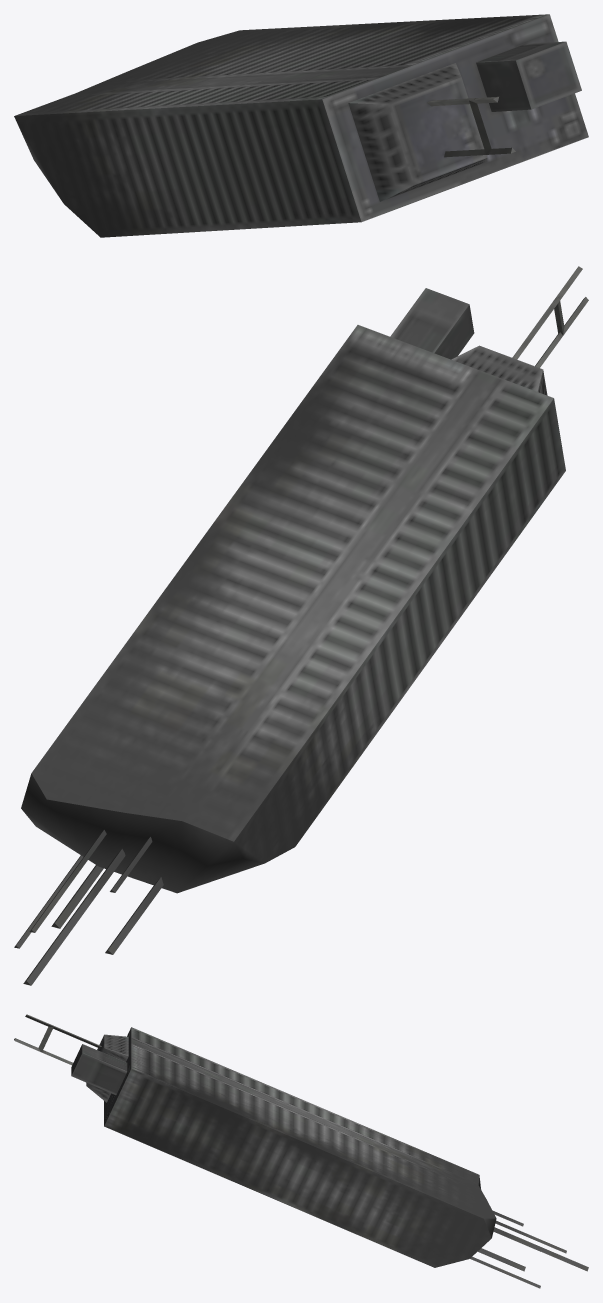
Rendered from skyBuildingAAC_pos_grp (10).fbx.
The picture shows the model from 3 angles, top to bottom: view 1: azimuth 30°, elevation 25°; view 2: azimuth 150°, elevation 25°; view 3: azimuth 270°, elevation 25°; orthographic projection. The views are drawn at different scales.
Parts seen in each view (by area): view 1: skyBuildingAAC_geo; view 2: skyBuildingAAC_geo; view 3: skyBuildingAAC_geo.
Boxes of the visible parts, box(x1,y1,x2,y2) form: skyBuildingAAC_geo: box(14, 14, 588, 237); skyBuildingAAC_geo: box(14, 266, 588, 985); skyBuildingAAC_geo: box(14, 1014, 588, 1288).
Bounding box in the file's own units: 4 × 6.46 × 14.29.
